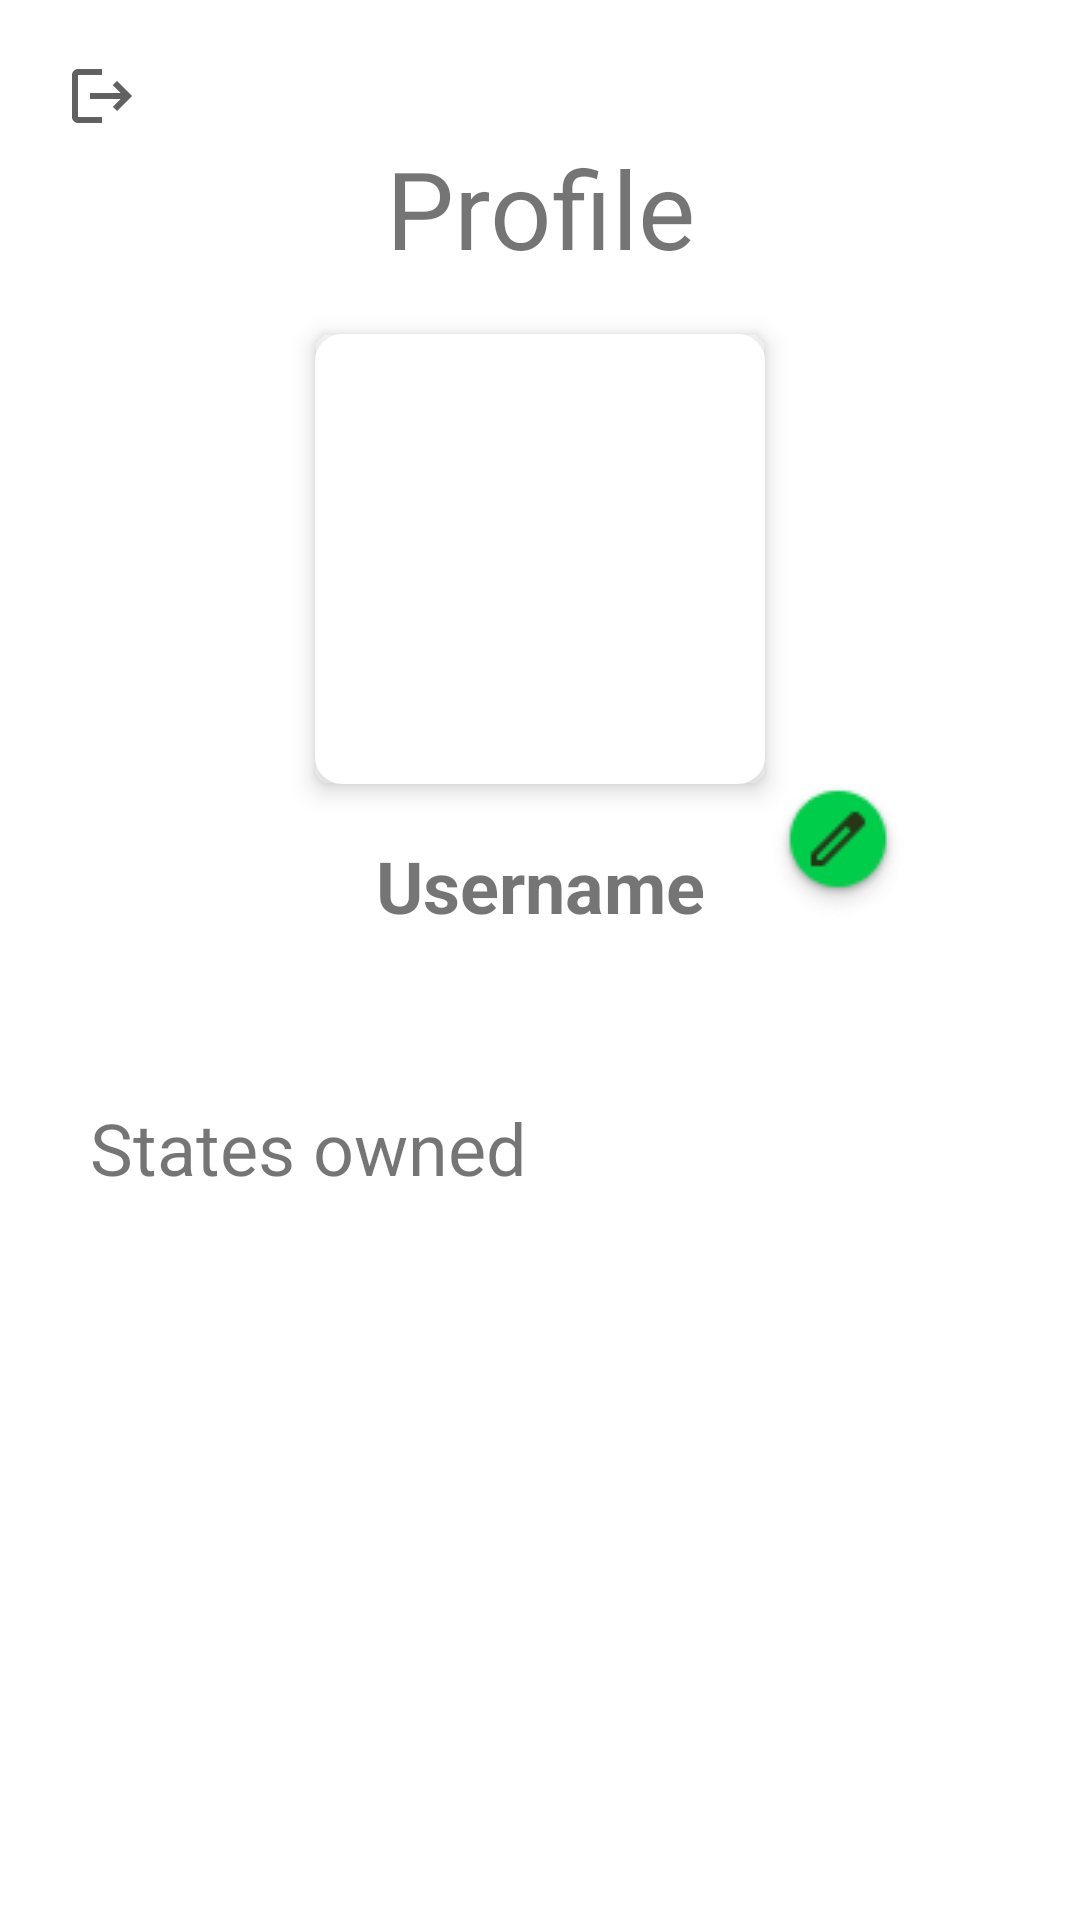

Icons on this 1080 x 1920 Android screen, each with its box as (x1, y1, x2, y2):
edit: (786, 790, 890, 896)
sign out: (72, 69, 132, 123)
